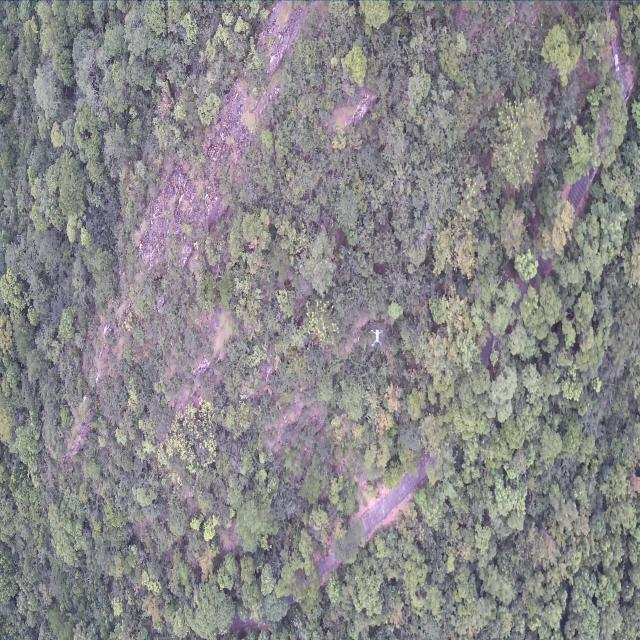UAV: (370, 327, 383, 347)
